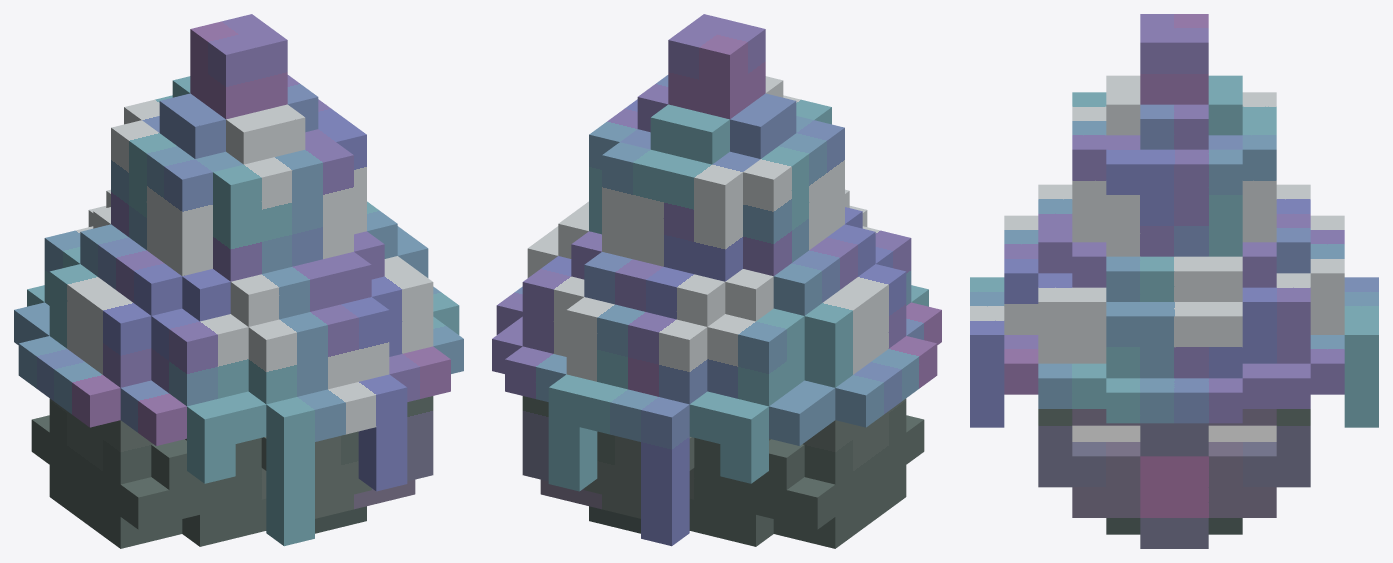
Rendered from can_mushroom.fbx.
3 views of the same model, side by side, from view 1: azimuth 30°, elevation 25°; view 2: azimuth 150°, elevation 25°; view 3: azimuth 270°, elevation 25° (orthographic). The views are drawn at different scales.
Visible parts, largest first — view 1: can_mushroom-2; view 2: can_mushroom-2; view 3: can_mushroom-2.
Boxes of the visible parts, x1,y1,x2,y2 form: can_mushroom-2: (14, 14, 463, 548); can_mushroom-2: (492, 14, 941, 548); can_mushroom-2: (970, 14, 1378, 548).
Size of the model in its own units: 120 by 150 by 120.
Materials: 1 (1 with a texture image).
